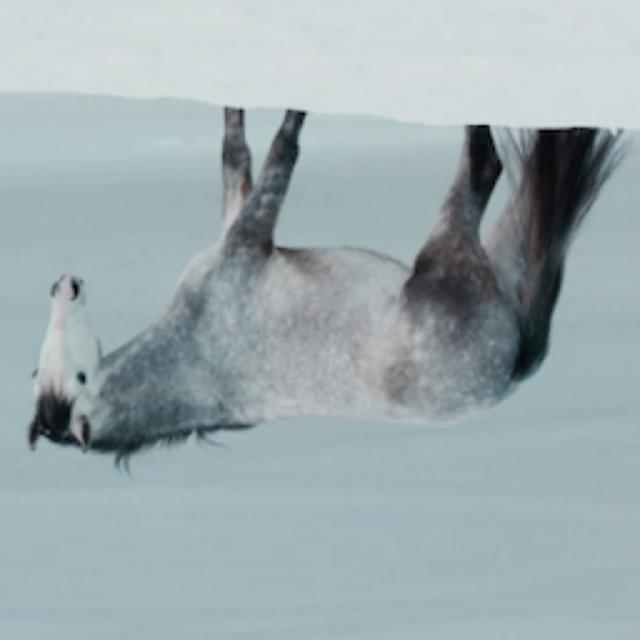Horse: (20, 102, 632, 480)
